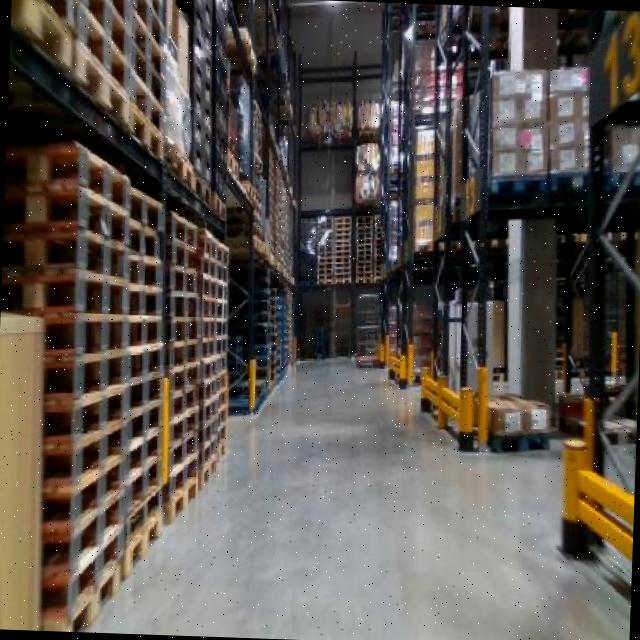pallet: (3, 126, 138, 212), (7, 172, 134, 250), (1, 220, 134, 294), (40, 304, 131, 371)
